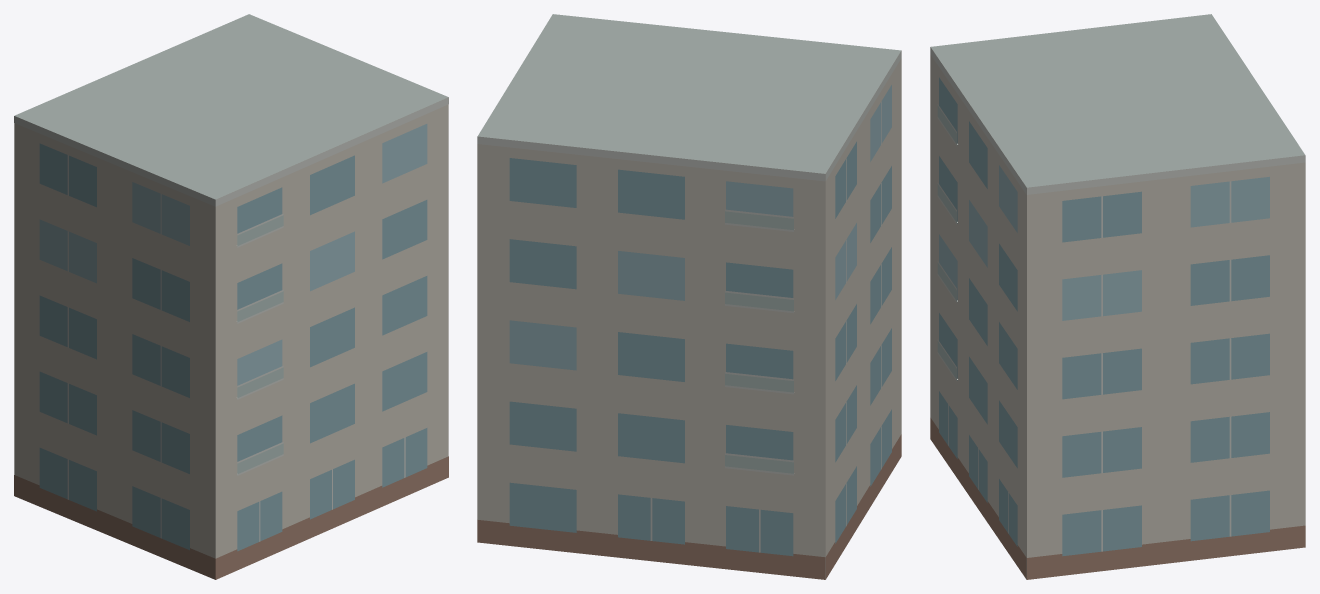
The model's file is survey-upis-32653680.glb.
3 renders of one model, left to right at view 1: azimuth 30°, elevation 25°; view 2: azimuth 150°, elevation 25°; view 3: azimuth 270°, elevation 25°, orthographic. The views are drawn at different scales.
Visible parts, largest first — view 1: survey-upis-32653680.tmp; view 2: survey-upis-32653680.tmp; view 3: survey-upis-32653680.tmp.
Part boxes in pixels (x1,y1,x2,y2): survey-upis-32653680.tmp: [14, 14, 448, 579]; survey-upis-32653680.tmp: [477, 14, 901, 579]; survey-upis-32653680.tmp: [930, 14, 1305, 579].
Bounding box in the file's own units: 12.45 × 13.1 × 11.37.
